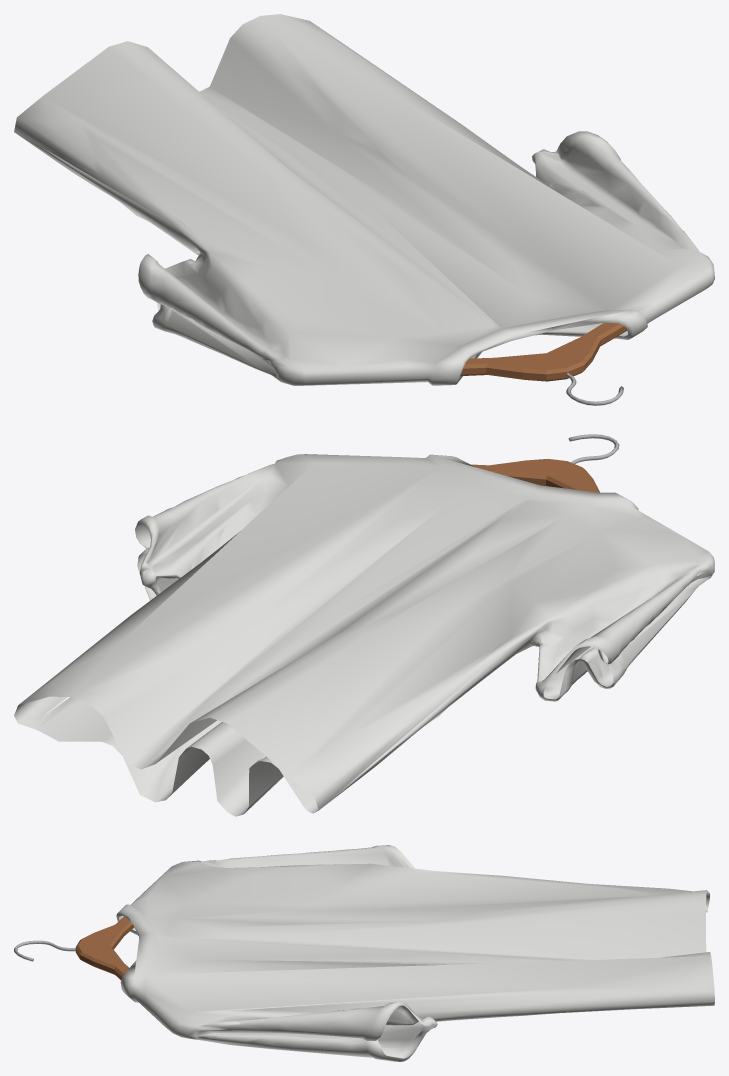
The model's file is remera-regular.glb.
The picture shows the model from 3 angles, top to bottom: view 1: azimuth 30°, elevation 25°; view 2: azimuth 150°, elevation 25°; view 3: azimuth 270°, elevation 25°; orthographic projection. The views are drawn at different scales.
Visible parts, largest first — view 1: Remera_Regular_Blanca_Sin_Logo, Hanger_Wood_Body; view 2: Remera_Regular_Blanca_Sin_Logo, Hanger_Wood_Body; view 3: Remera_Regular_Blanca_Sin_Logo, Hanger_Wood_Body.
Part boxes in pixels (bbox=[...]): Remera_Regular_Blanca_Sin_Logo: bbox=[14, 14, 714, 385]; Hanger_Wood_Body: bbox=[460, 323, 627, 381]; Remera_Regular_Blanca_Sin_Logo: bbox=[14, 454, 714, 816]; Hanger_Wood_Body: bbox=[471, 459, 599, 492]; Remera_Regular_Blanca_Sin_Logo: bbox=[116, 845, 714, 1061]; Hanger_Wood_Body: bbox=[75, 916, 134, 979].
Size of the model in its own units: 0.4883 by 0.1029 by 0.7896.
